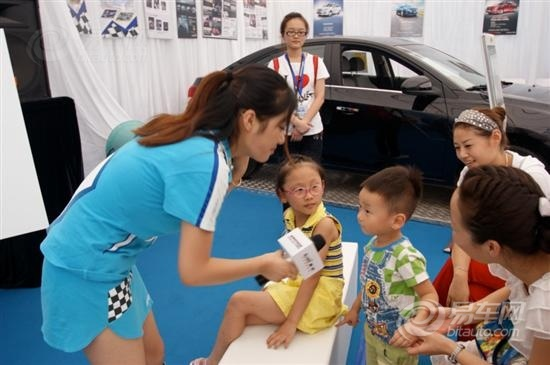other: (21, 60, 309, 352), (348, 161, 444, 361)
